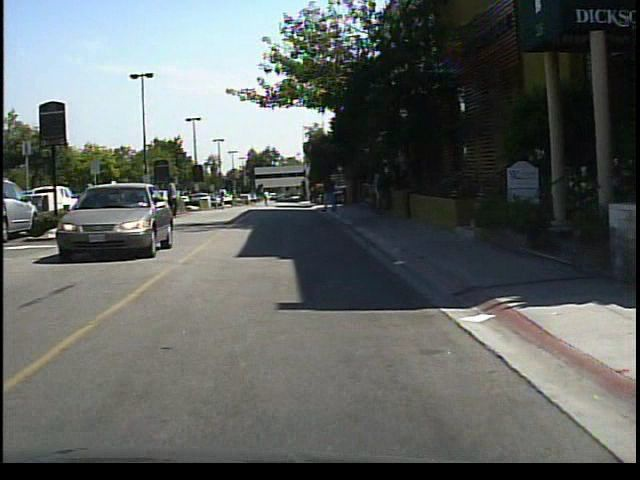person: (373, 162, 395, 224), (107, 177, 129, 229), (321, 170, 343, 219), (164, 173, 184, 221), (81, 183, 98, 227), (218, 187, 232, 214), (261, 190, 271, 210)
